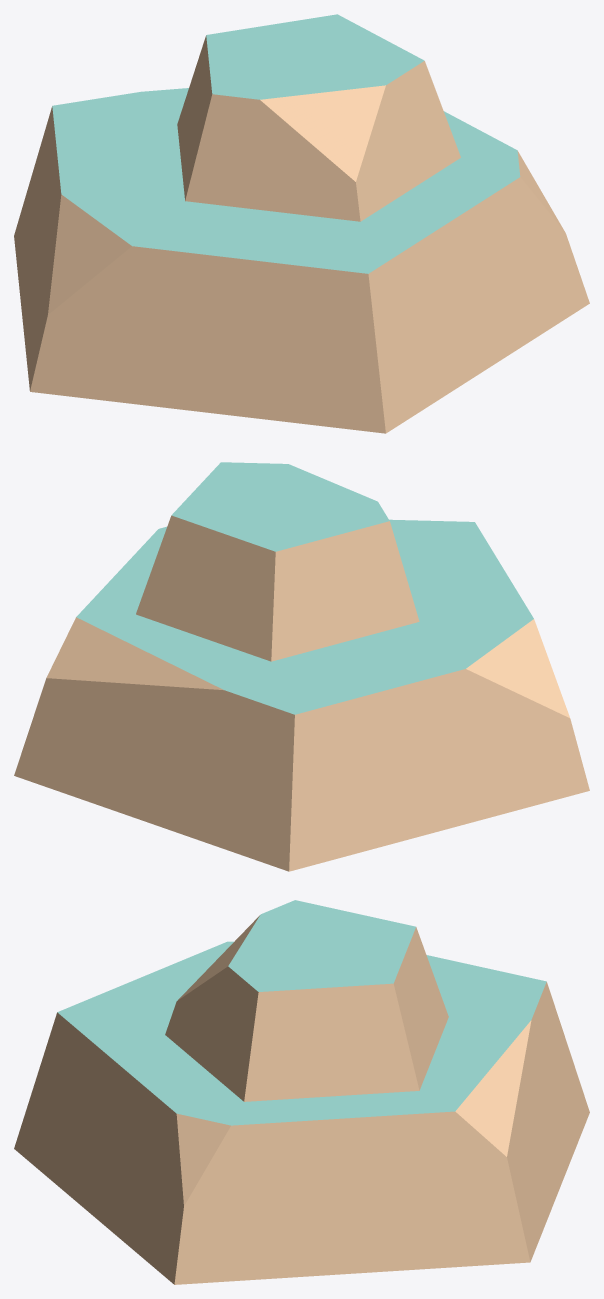
The model's file is rock_smallTop1.glb.
3 renders of one model, top to bottom at view 1: azimuth 30°, elevation 25°; view 2: azimuth 150°, elevation 25°; view 3: azimuth 270°, elevation 25°, orthographic. The views are drawn at different scales.
Visible parts, largest first — view 1: rock_smallTop1; view 2: rock_smallTop1; view 3: rock_smallTop1.
Part boxes in pixels (x1,y1,x2,y2): rock_smallTop1: (14, 14, 589, 433); rock_smallTop1: (14, 462, 589, 871); rock_smallTop1: (14, 900, 589, 1284).
Bounding box in the file's own units: 0.4877 × 0.22 × 0.4891.
